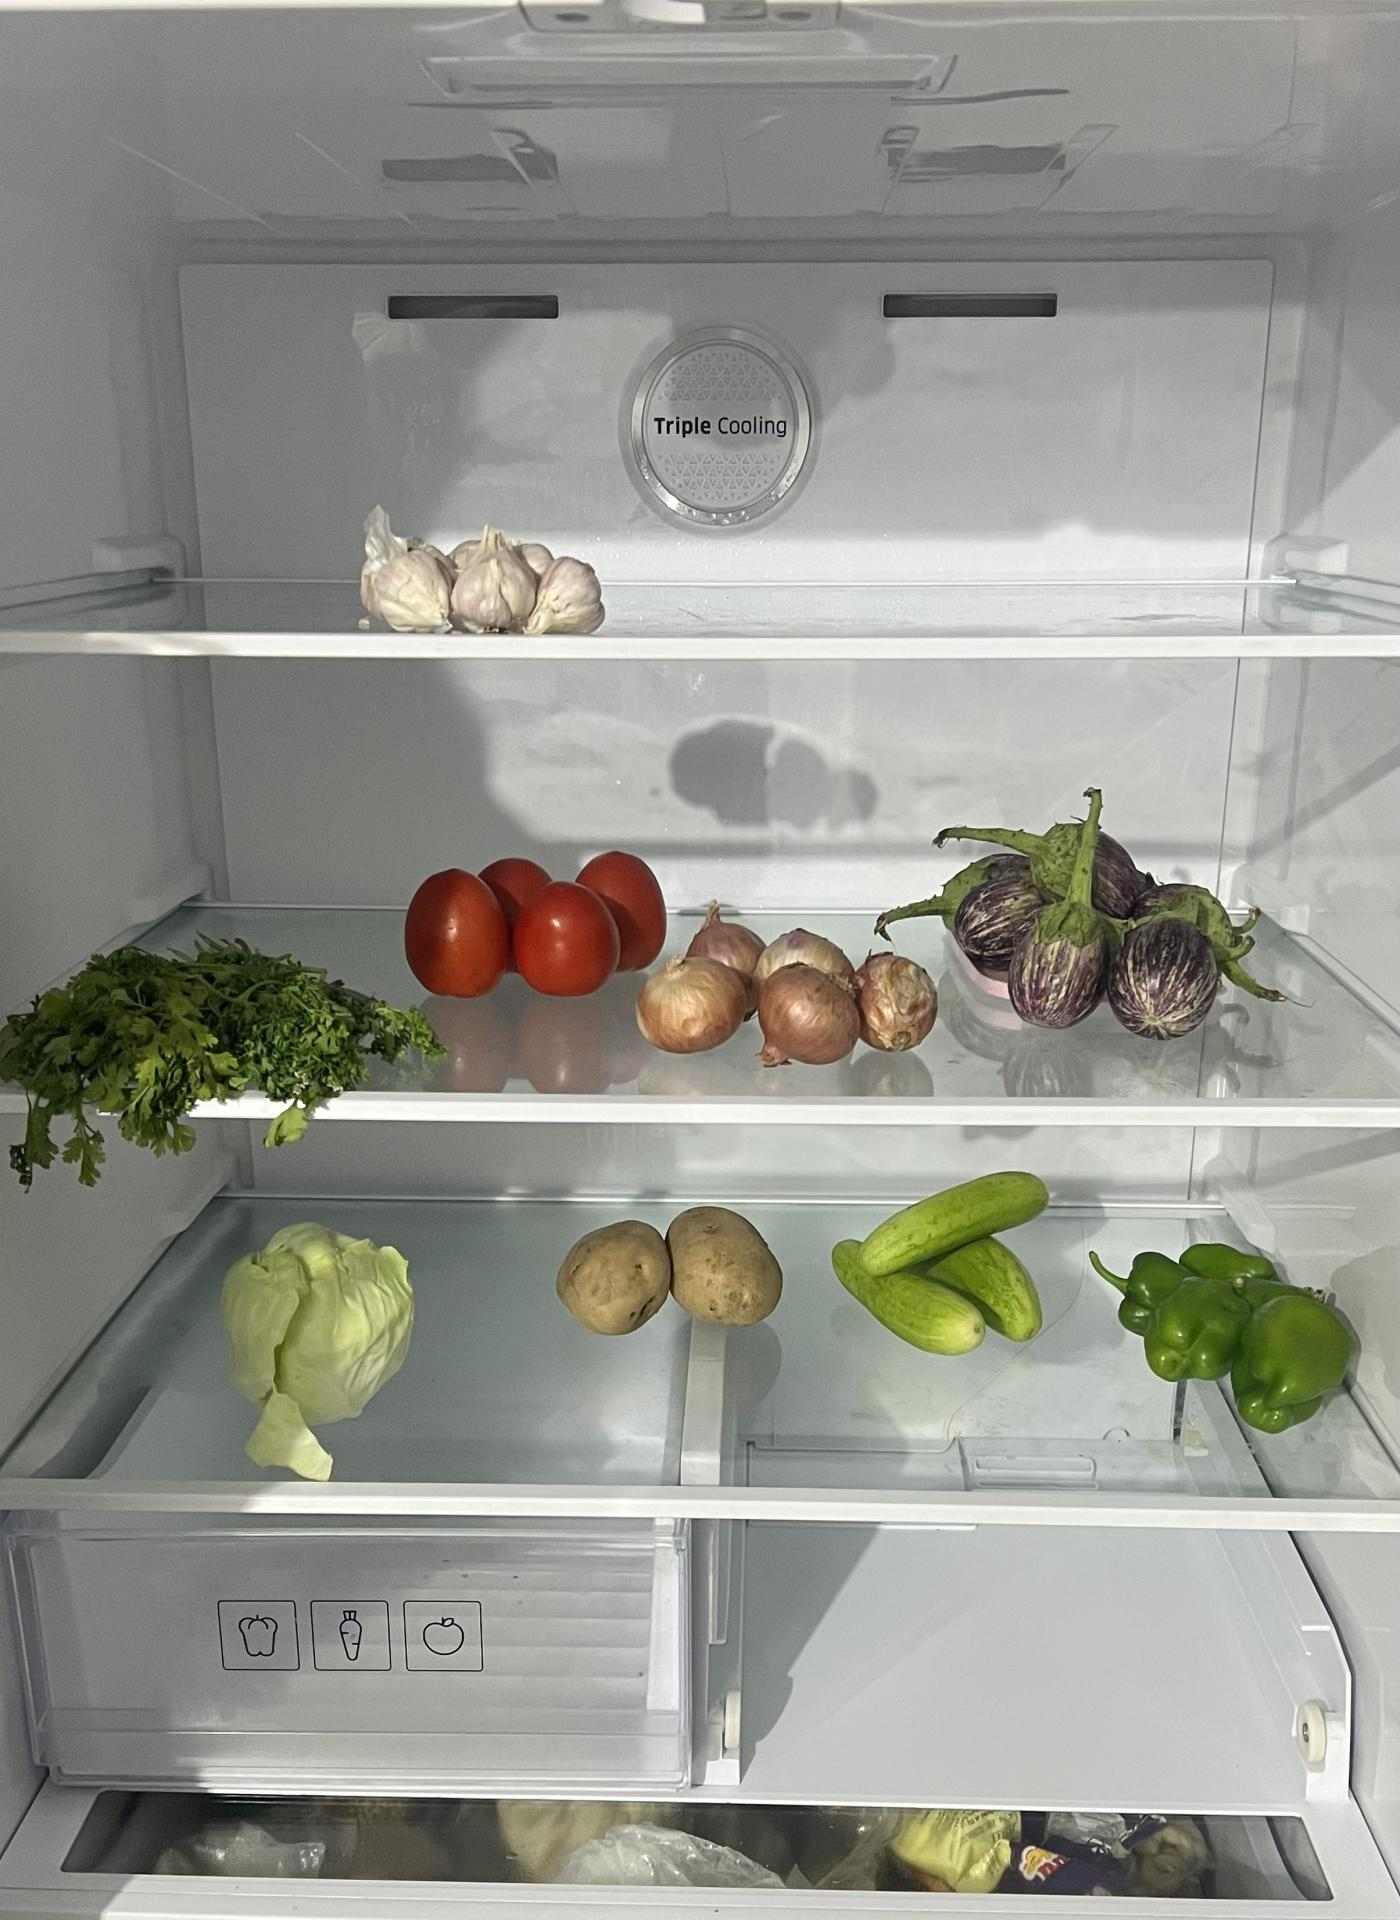brinjal: (942, 796, 1224, 999)
cabbage: (218, 1224, 413, 1425)
capsicum: (1111, 1237, 1360, 1428)
coriander: (0, 942, 428, 1128)
cucumber: (824, 1170, 1050, 1355)
garlic: (358, 514, 607, 638)
onion: (641, 917, 936, 1070)
potato: (553, 1203, 781, 1337)
tomato: (403, 844, 665, 994)
